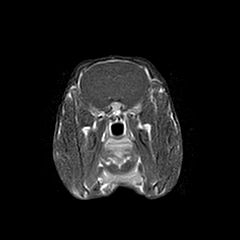Brain: (65, 31, 164, 129)
